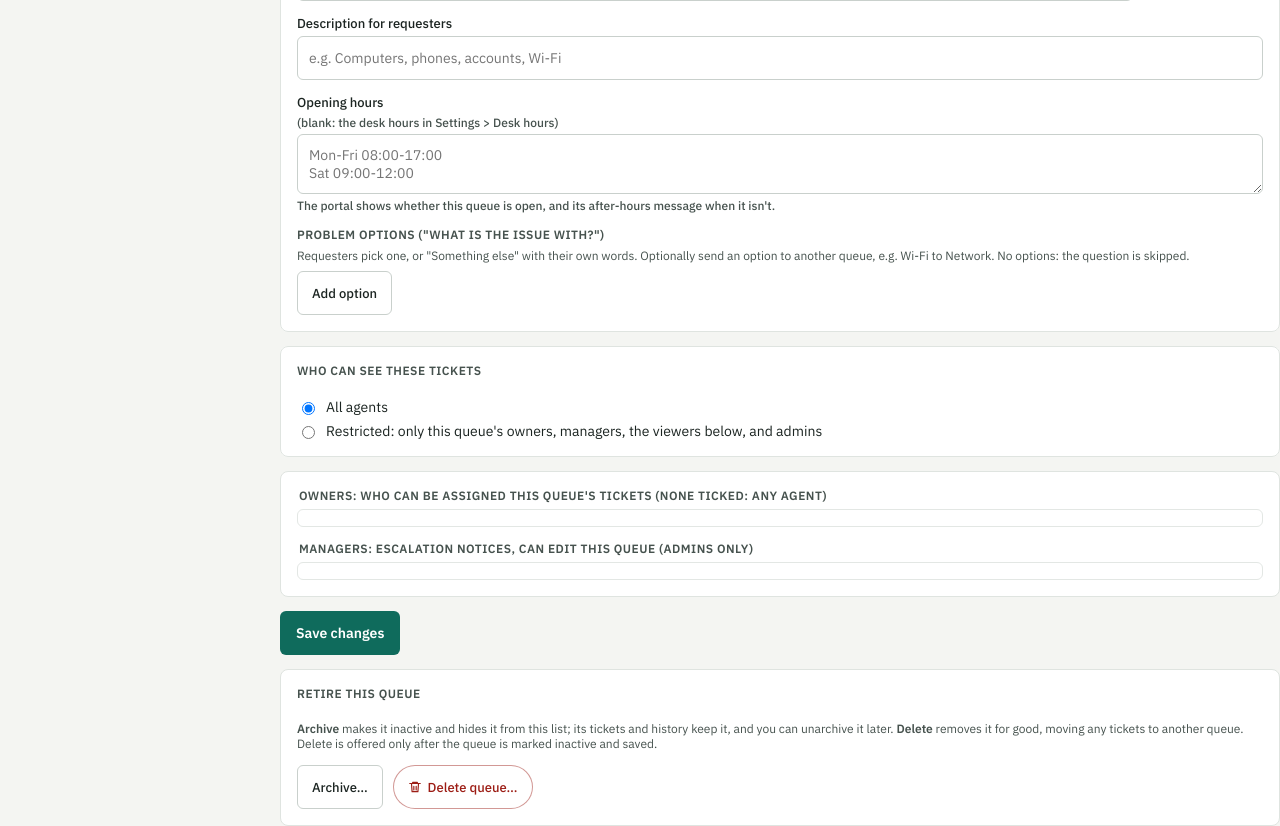
it: blockers are listed and stop the delete
(page scrolled)
Click the button "Delete queue…": (463,787) [393,765,532,809]
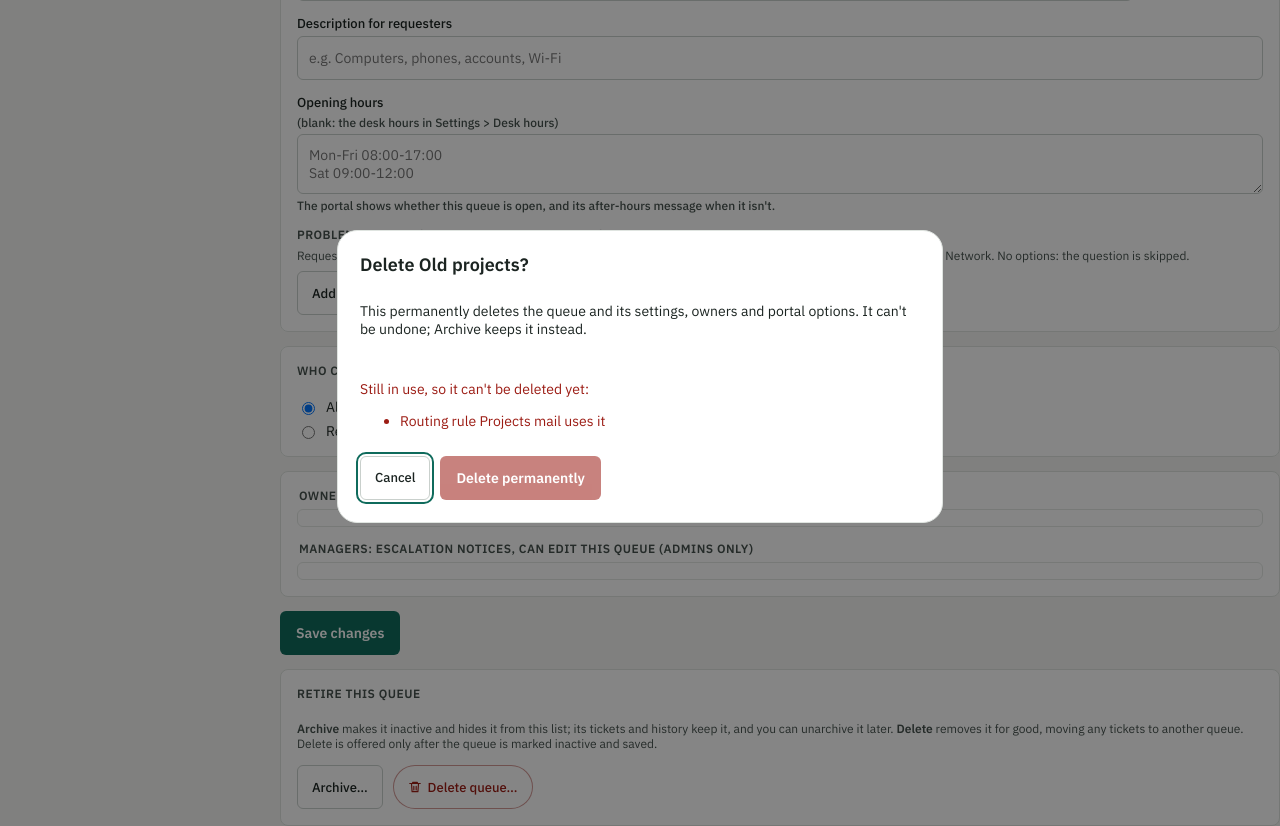
Check: the list item "Routing rule Projects mail uses it" is shown, box [400,412,605,430]
Check: the button "Delete permanently" is disabled, box [440,456,601,500]
